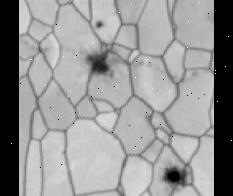good_void: (82, 45, 126, 77), (159, 162, 190, 186), (137, 105, 160, 129), (32, 36, 48, 56), (187, 67, 201, 79), (204, 7, 214, 22), (57, 145, 70, 156), (94, 18, 104, 29)
